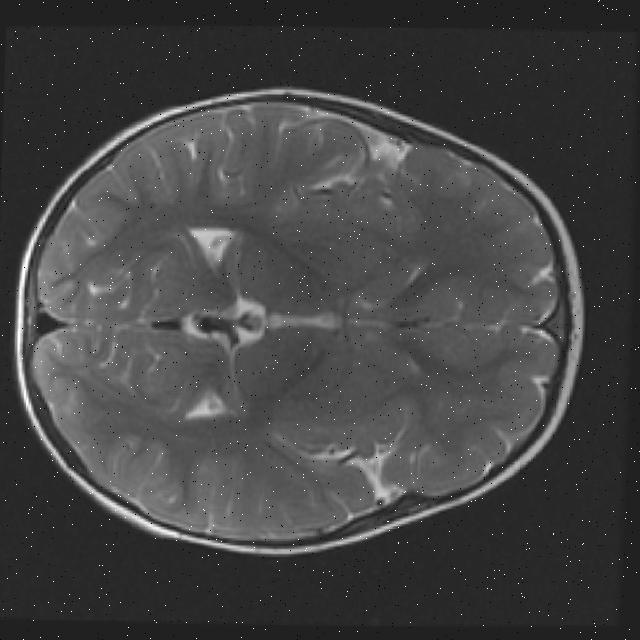NoTumor: (8, 82, 589, 562)
